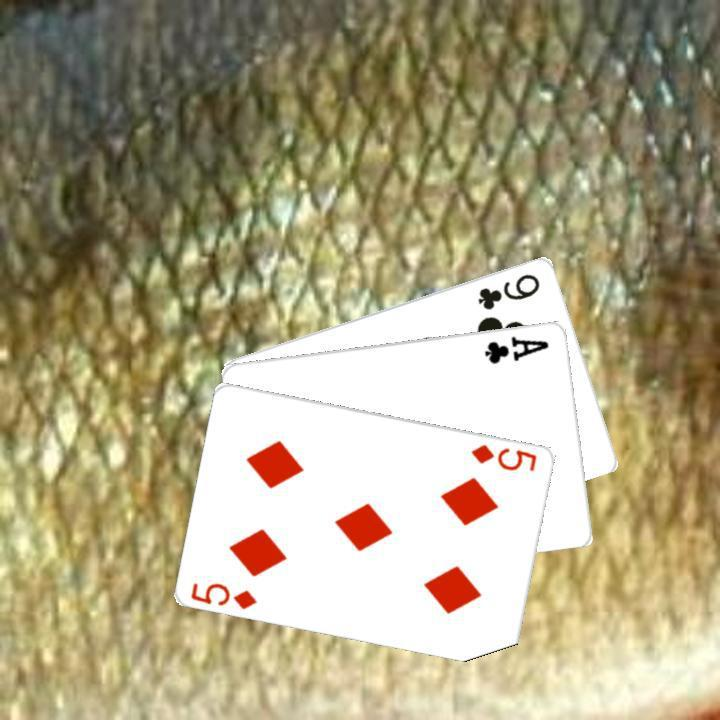5: (187, 578, 260, 612), (467, 439, 539, 473)
9: (473, 268, 542, 312)
A: (481, 331, 551, 365)
